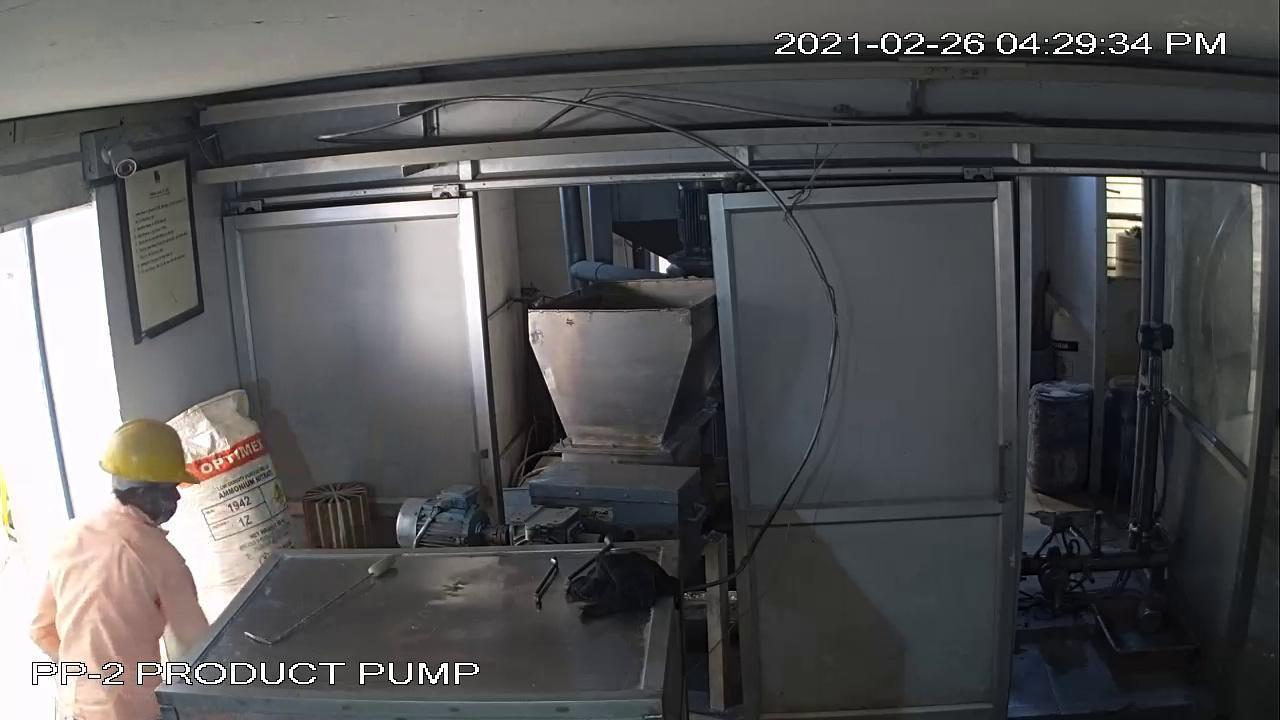helmet: (91, 404, 215, 510)
